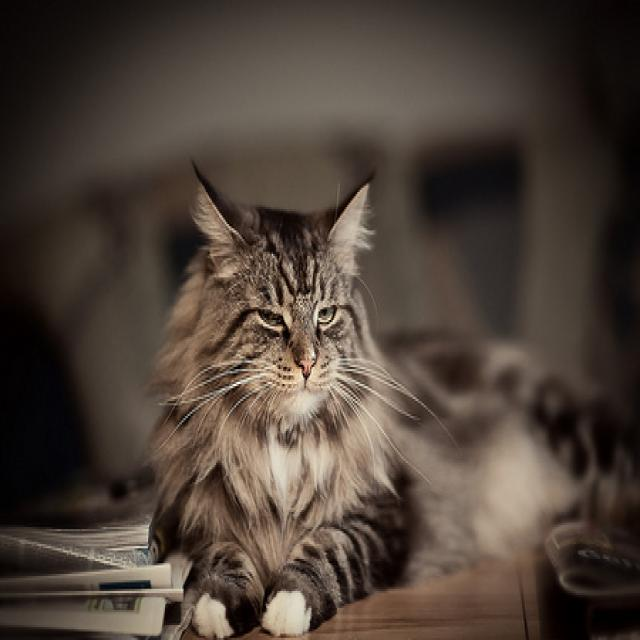Maine Coon: (139, 153, 640, 638)
